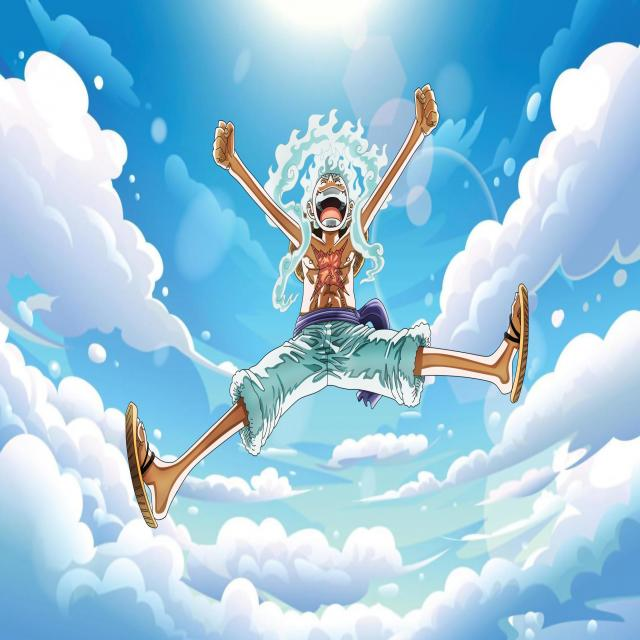luffy: (81, 75, 578, 521)
